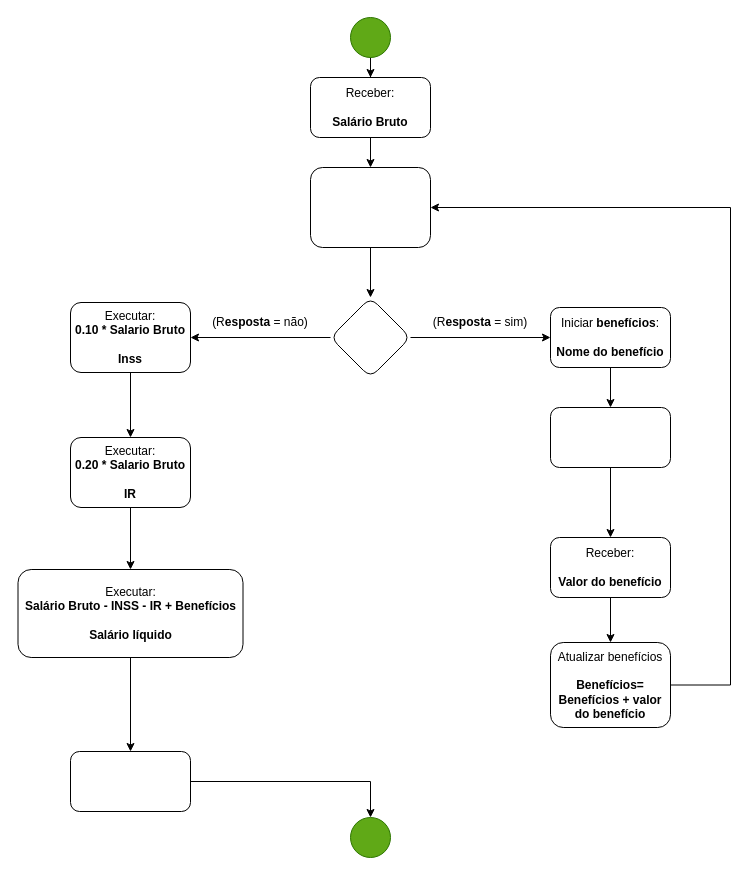
Image size: 756x875. Some labels were removed from this diagram. The centre of each missing label's shape, as x and y in pixels:
Exibir: Salário Líquido: point 130,781
Perguntar: "Você recebe algum benefício? Resposta: point 370,207
Receber: Nome do benefício: point 610,437
